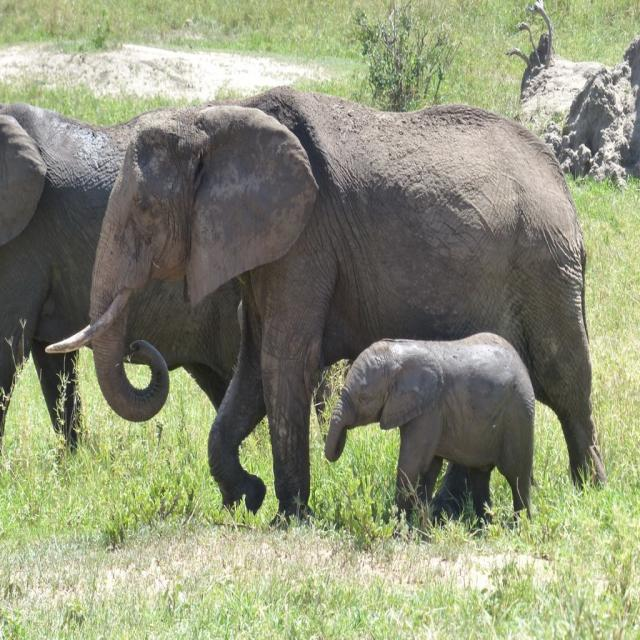elephant: (43, 85, 608, 521), (0, 103, 166, 475), (328, 332, 538, 546)
